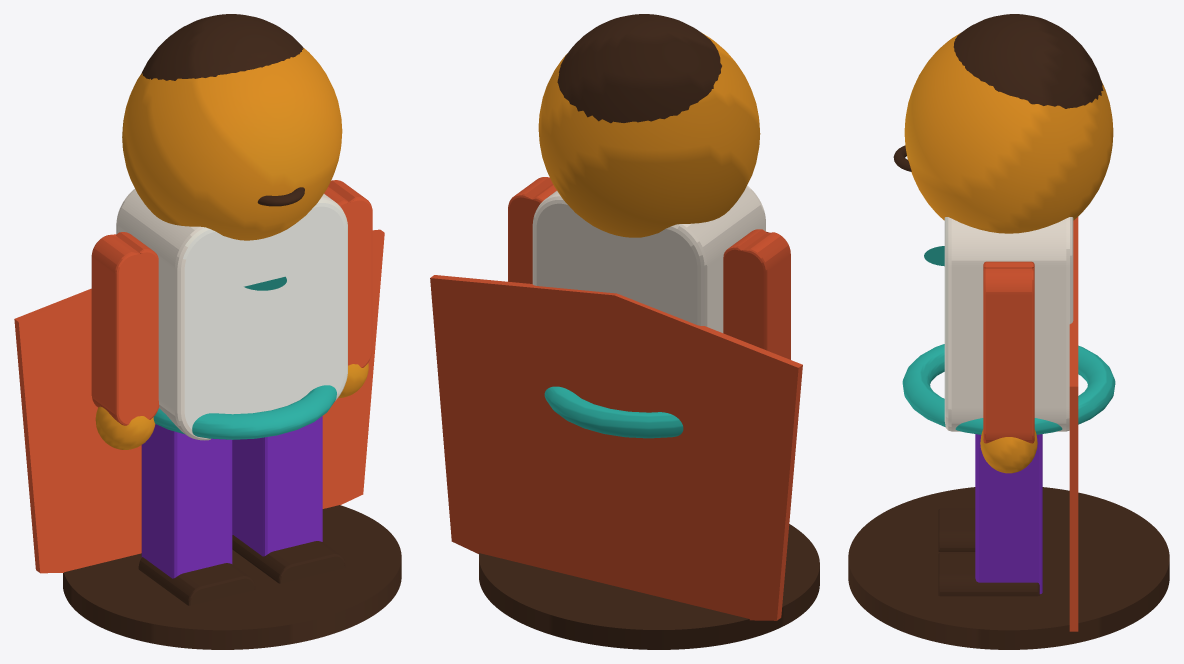
The picture shows the model from 3 angles, left to right: view 1: azimuth 30°, elevation 25°; view 2: azimuth 150°, elevation 25°; view 3: azimuth 270°, elevation 25°; orthographic projection.
Visible parts, largest first — view 1: card_0712; view 2: card_0712; view 3: card_0712.
Part boxes in pixels (box(x1,y1,x2,y2)): card_0712: box(14, 14, 401, 649); card_0712: box(430, 14, 819, 649); card_0712: box(848, 14, 1169, 649).
Size of the model in its own units: 0.6739 by 1 by 0.5141.
